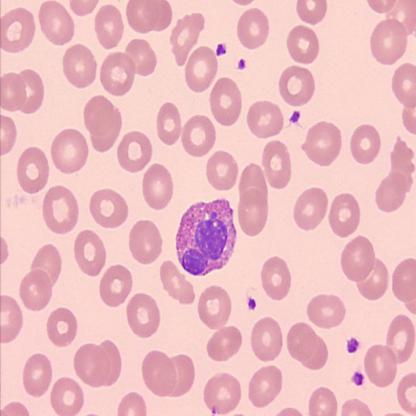Eosinophil: (176, 197, 238, 276)
